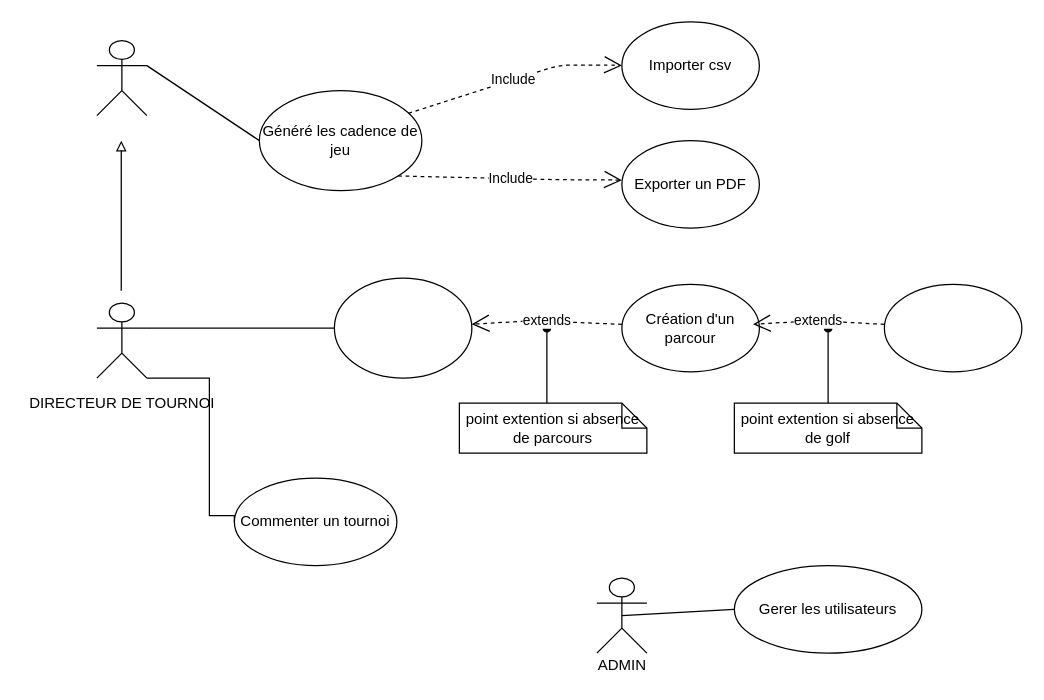
The diagram is 1044 pixels wide and 700 high, and some of its shapes have lost their labels. The shapes that lost their labels are listed below. From the top down, each one's centre as x and y in pixels, then its label:
the point at 121,77: ARBITRE
the point at 402,327: Planifier
the point at 952,327: Création d'un golf
